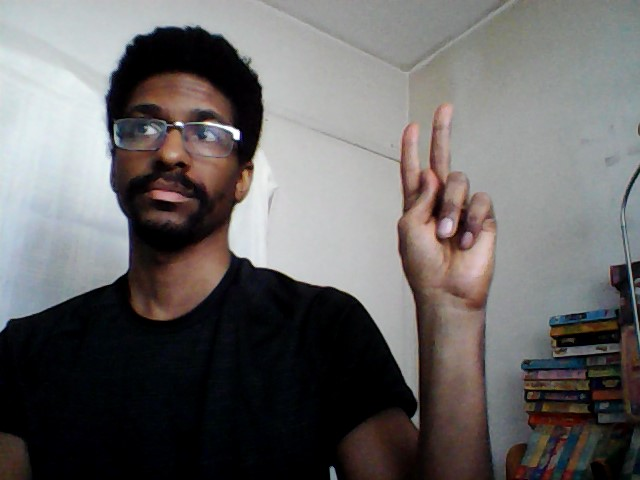k: (388, 96, 503, 314)
